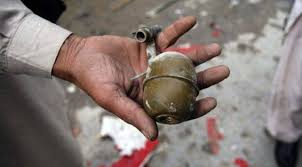e1: (133, 26, 196, 125)
